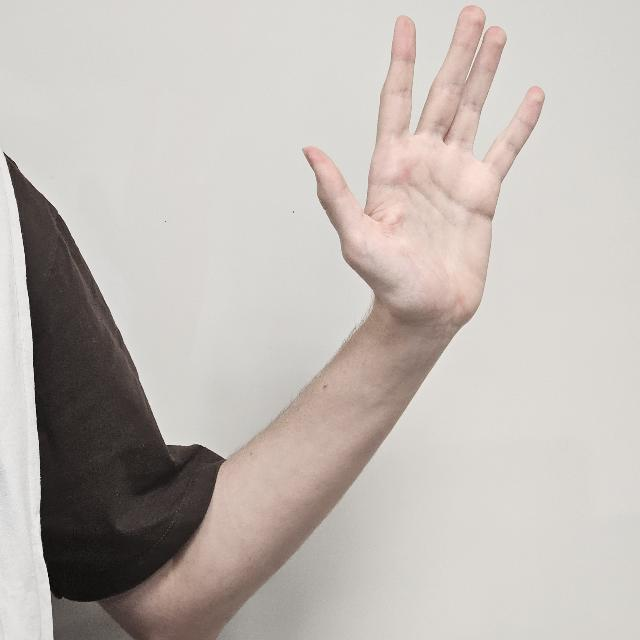X: (298, 4, 544, 362)
